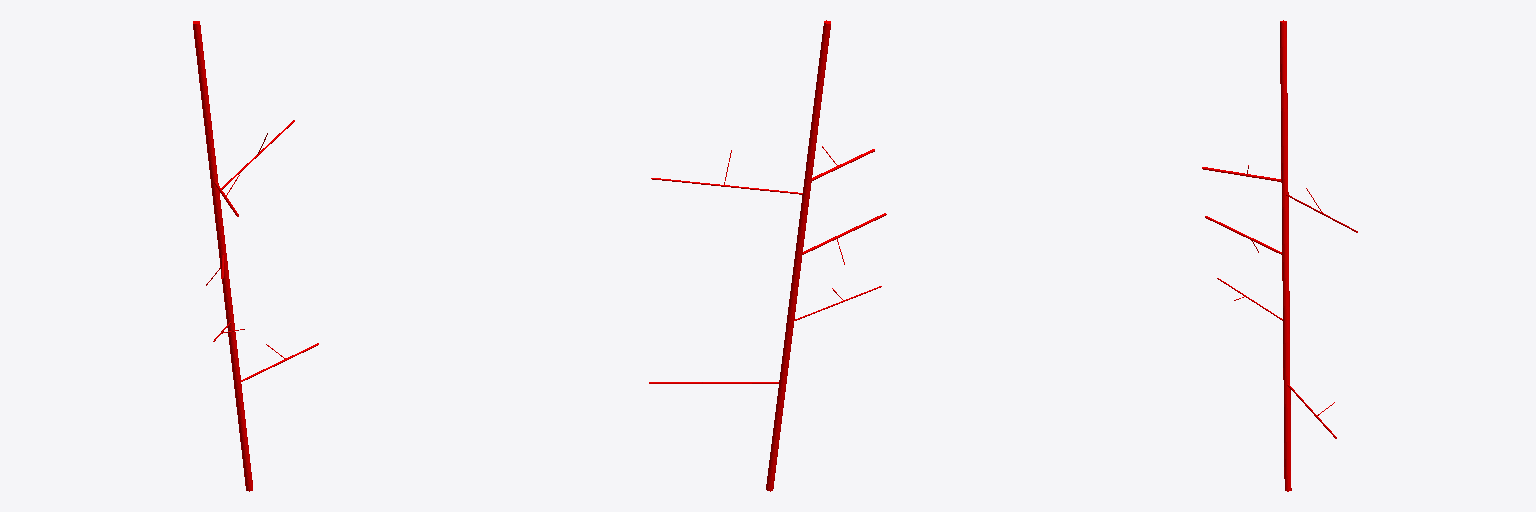
robot.urdf — tree_126.urdf:
<?xml version='1.0' encoding='UTF-8'?>
<robot name="tree_126.urdf">
  <link name="branch_0">
    <inertial>
      <origin xyz="0.0 0.0 0.0" rpy="0.0 -0.0 0.0"/>
      <mass value="0.1"/>
      <inertia ixx="0.001" ixy="0.0" ixz="0.0" iyy="0.001" iyz="0.0" izz="0.001"/>
    </inertial>
    <visual name="branch_0_visual">
      <geometry>
        <cylinder radius="0.08161595792290034" length="11.629407854982533"/>
      </geometry>
      <material name="semantic_material"/>
      <origin xyz="-0.6997483306100399 -0.05600723213342231 5.772174393427452" rpy="-1.7291934879778185e-18 0.12102123211524227 -3.061723808801695"/>
    </visual>
    <collision name="branch_0_collision">
      <geometry>
        <cylinder radius="0.08161595792290034" length="11.629407854982533"/>
      </geometry>
      <origin xyz="-0.6997483306100399 -0.05600723213342231 5.772174393427452" rpy="-1.7291934879778185e-18 0.12102123211524227 -3.061723808801695"/>
    </collision>
  </link>
  <link name="branch_1">
    <inertial>
      <origin xyz="0.0 0.0 0.0" rpy="0.0 -0.0 0.0"/>
      <mass value="0.1"/>
      <inertia ixx="0.001" ixy="0.0" ixz="0.0" iyy="0.001" iyz="0.0" izz="0.001"/>
    </inertial>
    <visual name="branch_1_visual">
      <geometry>
        <cylinder radius="0.030539834907707758" length="2.247138848043147"/>
      </geometry>
      <material name="semantic_material"/>
      <origin xyz="0.0 0.0 0.0" rpy="0.0 -0.0 0.0"/>
    </visual>
    <collision name="branch_1_collision">
      <geometry>
        <cylinder radius="0.030539834907707758" length="2.247138848043147"/>
      </geometry>
      <origin xyz="0.0 0.0 0.0" rpy="0.0 -0.0 0.0"/>
    </collision>
  </link>
  <link name="branch_2">
    <inertial>
      <origin xyz="0.0 0.0 0.0" rpy="0.0 -0.0 0.0"/>
      <mass value="0.1"/>
      <inertia ixx="0.001" ixy="0.0" ixz="0.0" iyy="0.001" iyz="0.0" izz="0.001"/>
    </inertial>
    <visual name="branch_2_visual">
      <geometry>
        <cylinder radius="0.010154200474696345" length="0.6231579740610789"/>
      </geometry>
      <material name="semantic_material"/>
      <origin xyz="0.0 0.0 0.0" rpy="0.0 -0.0 0.0"/>
    </visual>
    <collision name="branch_2_collision">
      <geometry>
        <cylinder radius="0.010154200474696345" length="0.6231579740610789"/>
      </geometry>
      <origin xyz="0.0 0.0 0.0" rpy="0.0 -0.0 0.0"/>
    </collision>
  </link>
  <link name="branch_3">
    <inertial>
      <origin xyz="0.0 0.0 0.0" rpy="0.0 -0.0 0.0"/>
      <mass value="0.1"/>
      <inertia ixx="0.001" ixy="0.0" ixz="0.0" iyy="0.001" iyz="0.0" izz="0.001"/>
    </inertial>
    <visual name="branch_3_visual">
      <geometry>
        <cylinder radius="0.022937697538469578" length="2.9376612154520783"/>
      </geometry>
      <material name="semantic_material"/>
      <origin xyz="0.0 0.0 0.0" rpy="0.0 -0.0 0.0"/>
    </visual>
    <collision name="branch_3_collision">
      <geometry>
        <cylinder radius="0.022937697538469578" length="2.9376612154520783"/>
      </geometry>
      <origin xyz="0.0 0.0 0.0" rpy="0.0 -0.0 0.0"/>
    </collision>
  </link>
  <link name="branch_4">
    <inertial>
      <origin xyz="0.0 0.0 0.0" rpy="0.0 -0.0 0.0"/>
      <mass value="0.1"/>
      <inertia ixx="0.001" ixy="0.0" ixz="0.0" iyy="0.001" iyz="0.0" izz="0.001"/>
    </inertial>
    <visual name="branch_4_visual">
      <geometry>
        <cylinder radius="0.01" length="0.5552911827188607"/>
      </geometry>
      <material name="semantic_material"/>
      <origin xyz="0.0 0.0 0.0" rpy="0.0 -0.0 0.0"/>
    </visual>
    <collision name="branch_4_collision">
      <geometry>
        <cylinder radius="0.01" length="0.5552911827188607"/>
      </geometry>
      <origin xyz="0.0 0.0 0.0" rpy="0.0 -0.0 0.0"/>
    </collision>
  </link>
  <link name="branch_5">
    <inertial>
      <origin xyz="0.0 0.0 0.0" rpy="0.0 -0.0 0.0"/>
      <mass value="0.1"/>
      <inertia ixx="0.001" ixy="0.0" ixz="0.0" iyy="0.001" iyz="0.0" izz="0.001"/>
    </inertial>
    <visual name="branch_5_visual">
      <geometry>
        <cylinder radius="0.03245520453994147" length="2.0225696038352545"/>
      </geometry>
      <material name="semantic_material"/>
      <origin xyz="0.0 0.0 0.0" rpy="0.0 -0.0 0.0"/>
    </visual>
    <collision name="branch_5_collision">
      <geometry>
        <cylinder radius="0.03245520453994147" length="2.0225696038352545"/>
      </geometry>
      <origin xyz="0.0 0.0 0.0" rpy="0.0 -0.0 0.0"/>
    </collision>
  </link>
  <link name="branch_6">
    <inertial>
      <origin xyz="0.0 0.0 0.0" rpy="0.0 -0.0 0.0"/>
      <mass value="0.1"/>
      <inertia ixx="0.001" ixy="0.0" ixz="0.0" iyy="0.001" iyz="0.0" izz="0.001"/>
    </inertial>
    <visual name="branch_6_visual">
      <geometry>
        <cylinder radius="0.010313211462547812" length="0.5791981285790457"/>
      </geometry>
      <material name="semantic_material"/>
      <origin xyz="0.0 0.0 0.0" rpy="0.0 -0.0 0.0"/>
    </visual>
    <collision name="branch_6_collision">
      <geometry>
        <cylinder radius="0.010313211462547812" length="0.5791981285790457"/>
      </geometry>
      <origin xyz="0.0 0.0 0.0" rpy="0.0 -0.0 0.0"/>
    </collision>
  </link>
  <link name="branch_7">
    <inertial>
      <origin xyz="0.0 0.0 0.0" rpy="0.0 -0.0 0.0"/>
      <mass value="0.1"/>
      <inertia ixx="0.001" ixy="0.0" ixz="0.0" iyy="0.001" iyz="0.0" izz="0.001"/>
    </inertial>
    <visual name="branch_7_visual">
      <geometry>
        <cylinder radius="0.01694248695847775" length="2.1801561670295158"/>
      </geometry>
      <material name="semantic_material"/>
      <origin xyz="0.0 0.0 0.0" rpy="0.0 -0.0 0.0"/>
    </visual>
    <collision name="branch_7_collision">
      <geometry>
        <cylinder radius="0.01694248695847775" length="2.1801561670295158"/>
      </geometry>
      <origin xyz="0.0 0.0 0.0" rpy="0.0 -0.0 0.0"/>
    </collision>
  </link>
  <link name="branch_8">
    <inertial>
      <origin xyz="0.0 0.0 0.0" rpy="0.0 -0.0 0.0"/>
      <mass value="0.1"/>
      <inertia ixx="0.001" ixy="0.0" ixz="0.0" iyy="0.001" iyz="0.0" izz="0.001"/>
    </inertial>
    <visual name="branch_8_visual">
      <geometry>
        <cylinder radius="0.01" length="0.5407534145446288"/>
      </geometry>
      <material name="semantic_material"/>
      <origin xyz="0.0 0.0 0.0" rpy="0.0 -0.0 0.0"/>
    </visual>
    <collision name="branch_8_collision">
      <geometry>
        <cylinder radius="0.01" length="0.5407534145446288"/>
      </geometry>
      <origin xyz="0.0 0.0 0.0" rpy="0.0 -0.0 0.0"/>
    </collision>
  </link>
  <link name="branch_9">
    <inertial>
      <origin xyz="0.0 0.0 0.0" rpy="0.0 -0.0 0.0"/>
      <mass value="0.1"/>
      <inertia ixx="0.001" ixy="0.0" ixz="0.0" iyy="0.001" iyz="0.0" izz="0.001"/>
    </inertial>
    <visual name="branch_9_visual">
      <geometry>
        <cylinder radius="0.02047666395398795" length="3.420665560557608"/>
      </geometry>
      <material name="semantic_material"/>
      <origin xyz="0.0 0.0 0.0" rpy="0.0 -0.0 0.0"/>
    </visual>
    <collision name="branch_9_collision">
      <geometry>
        <cylinder radius="0.02047666395398795" length="3.420665560557608"/>
      </geometry>
      <origin xyz="0.0 0.0 0.0" rpy="0.0 -0.0 0.0"/>
    </collision>
  </link>
  <link name="branch_10">
    <inertial>
      <origin xyz="0.0 0.0 0.0" rpy="0.0 -0.0 0.0"/>
      <mass value="0.1"/>
      <inertia ixx="0.001" ixy="0.0" ixz="0.0" iyy="0.001" iyz="0.0" izz="0.001"/>
    </inertial>
    <visual name="branch_10_visual">
      <geometry>
        <cylinder radius="0.01" length="0.7960497625120889"/>
      </geometry>
      <material name="semantic_material"/>
      <origin xyz="0.0 0.0 0.0" rpy="0.0 -0.0 0.0"/>
    </visual>
    <collision name="branch_10_collision">
      <geometry>
        <cylinder radius="0.01" length="0.7960497625120889"/>
      </geometry>
      <origin xyz="0.0 0.0 0.0" rpy="0.0 -0.0 0.0"/>
    </collision>
  </link>
  <joint name="joint_0_1" type="fixed">
    <parent link="branch_0"/>
    <child link="branch_1"/>
    <axis xyz="1. 0. 0."/>
    <origin xyz="-1.2551037148912085 -1.0017343792565736 6.031289434135773" rpy="0.42870735602687443 1.3259978892094104 -1.6604655946134388"/>
  </joint>
  <joint name="joint_0_3" type="fixed">
    <parent link="branch_0"/>
    <child link="branch_3"/>
    <axis xyz="1. 0. 0."/>
    <origin xyz="1.0278329277553808 0.5546890388883378 2.5495719710014746" rpy="-2.52929007121271 1.5024094940306594 -2.1214202116081804"/>
  </joint>
  <joint name="joint_0_5" type="fixed">
    <parent link="branch_0"/>
    <child link="branch_5"/>
    <axis xyz="1. 0. 0."/>
    <origin xyz="-1.192669712366445 -1.0472422772044474 7.65751227150555" rpy="1.1806598575388207 1.4475468388632242 -0.6581345743277581"/>
  </joint>
  <joint name="joint_0_7" type="fixed">
    <parent link="branch_0"/>
    <child link="branch_7"/>
    <axis xyz="1. 0. 0."/>
    <origin xyz="-1.1791954229009969 -0.8532235997450887 4.396744712305032" rpy="0.3544219792563795 1.3132502687018905 -1.9001885389959117"/>
  </joint>
  <joint name="joint_0_9" type="fixed">
    <parent link="branch_0"/>
    <child link="branch_9"/>
    <axis xyz="1. 0. 0."/>
    <origin xyz="0.5865986004968597 0.780137650083722 7.488604863369694" rpy="-0.43112263901243597 1.4470316859966665 0.09034679224590524"/>
  </joint>
  <joint name="joint_1_2" type="fixed">
    <parent link="branch_0"/>
    <child link="branch_2"/>
    <axis xyz="1. 0. 0."/>
    <origin xyz="-1.3397923365493778 -0.7830381583017005 5.7470430938904435" rpy="-2.5150030653651503 0.07293487122894765 0.9299046855263874"/>
  </joint>
  <joint name="joint_3_4" type="fixed">
    <parent link="branch_0"/>
    <child link="branch_4"/>
    <axis xyz="1. 0. 0."/>
    <origin xyz="1.1792946857847328 0.8887777635512364 2.656690044367364" rpy="1.1083183537834937 3.329899957310346e-05 -2.622177556944813"/>
  </joint>
  <joint name="joint_5_6" type="fixed">
    <parent link="branch_0"/>
    <child link="branch_6"/>
    <axis xyz="1. 0. 0."/>
    <origin xyz="-0.9803584842810742 -0.9490523678443755 7.869426943755033" rpy="0.7034572992116744 0.220838589486463 1.4457372874541048"/>
  </joint>
  <joint name="joint_7_8" type="fixed">
    <parent link="branch_0"/>
    <child link="branch_8"/>
    <axis xyz="1. 0. 0."/>
    <origin xyz="-1.0685982379297077 -1.128561420934065 4.495081507376101" rpy="1.3683047654713436 0.2668348190421694 0.9955548051750861"/>
  </joint>
  <joint name="joint_9_10" type="fixed">
    <parent link="branch_0"/>
    <child link="branch_10"/>
    <axis xyz="1. 0. 0."/>
    <origin xyz="0.6893837531022128 0.6302960145482609 7.8442738756913535" rpy="-0.48342336702395816 0.2070377787721122 -2.6670158874271586"/>
  </joint>
  <material name="semantic_material">
    <color rgba="1. 0. 0. 1."/>
  </material>
</robot>

--- Facts derived from the render (not from the file) ---
Views: 3 orthographic renders of the robot side by side, from view 1: azimuth 30°, elevation 25°; view 2: azimuth 150°, elevation 25°; view 3: azimuth 270°, elevation 25°.
Robot: tree_126.urdf — 11 links, 10 joints (10 fixed); root link branch_0; default pose: all joints at 0.
Visible links, largest first — view 1: branch_0; view 2: branch_0; view 3: branch_0.
Link boxes in pixels (box(x1,y1,x2,y2)): branch_0: box(193, 21, 252, 491); branch_0: box(766, 20, 830, 491); branch_0: box(1280, 20, 1291, 491).
Bounding box of the posed robot: 4.25 × 3.68 × 11.56 m (x, y, z).
Geometry: primitives only (box / cylinder / sphere), no mesh files.
